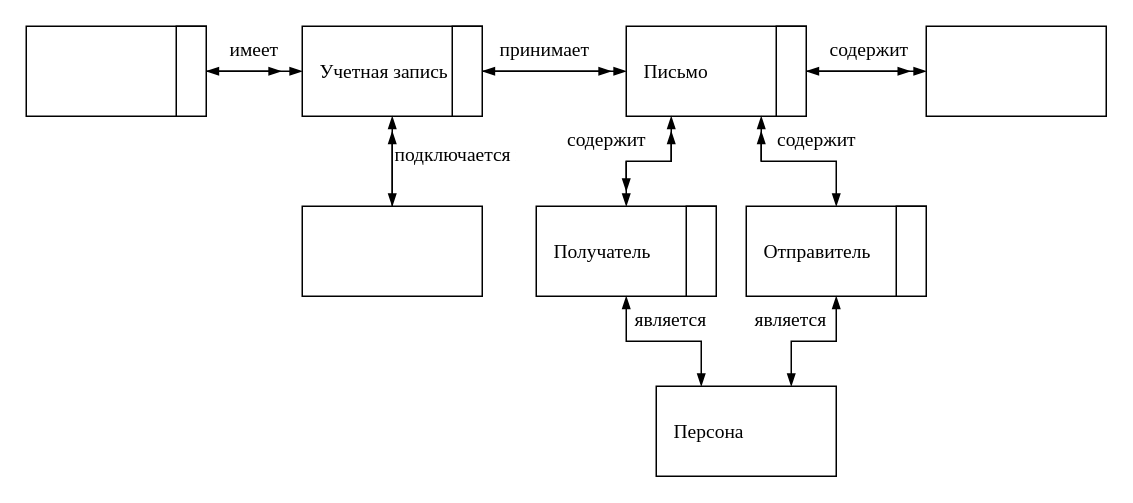
Image size: 1133x503. Some labels were removed from this diagram. Each missing label, with the box of its shape:
Вложение: (925, 25, 1106, 116)
Пользователь: (25, 25, 206, 116)
Почтовый сервер: (301, 205, 482, 296)
